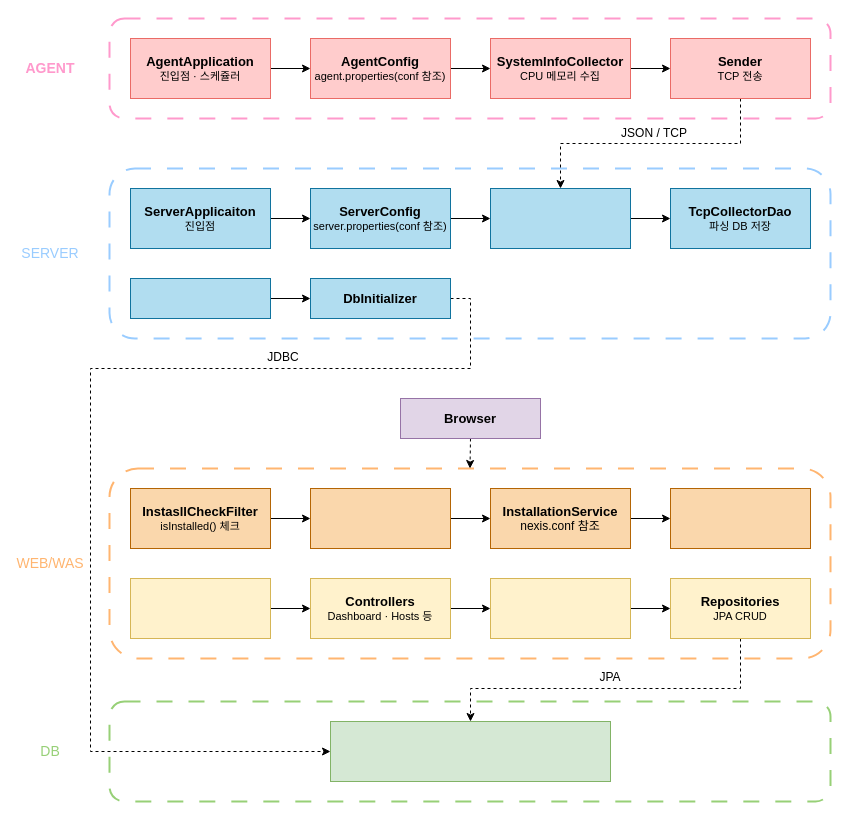
Some shapes in this 849 by 819 pixel diagram are drawn without their labels. Here are the shapes that lost their labels. From the top down, the centre of each, then its label:
At (x=560, y=218): "TcpCollector 소켓 수신 루프".
At (x=200, y=298): "DbSetupFrame".
At (x=380, y=518): "InstallController 6단계 마법사 페이지".
At (x=740, y=518): "InstallApiController DB/서버 연결 테스트".
At (x=200, y=608): "SpringSecurity FilterChain 설정 PermissionInterceptor 등록".
At (x=560, y=608): "Services Host · Trigger · Permission".
At (x=470, y=751): "MYSQL/MariaDB/PostgreSQL".
